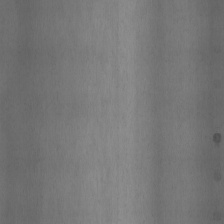oil_spot: (211, 162, 220, 185), (211, 128, 221, 145)
